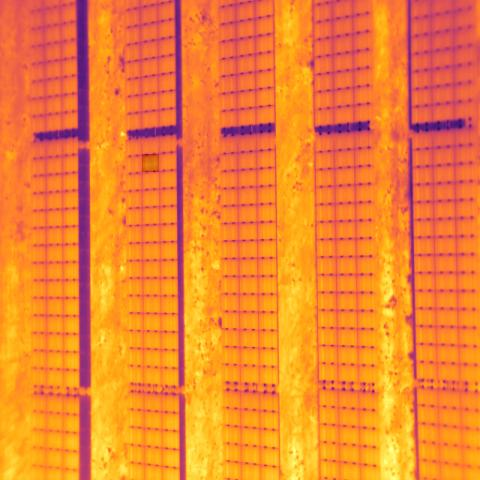fault: (142, 154, 159, 172)
